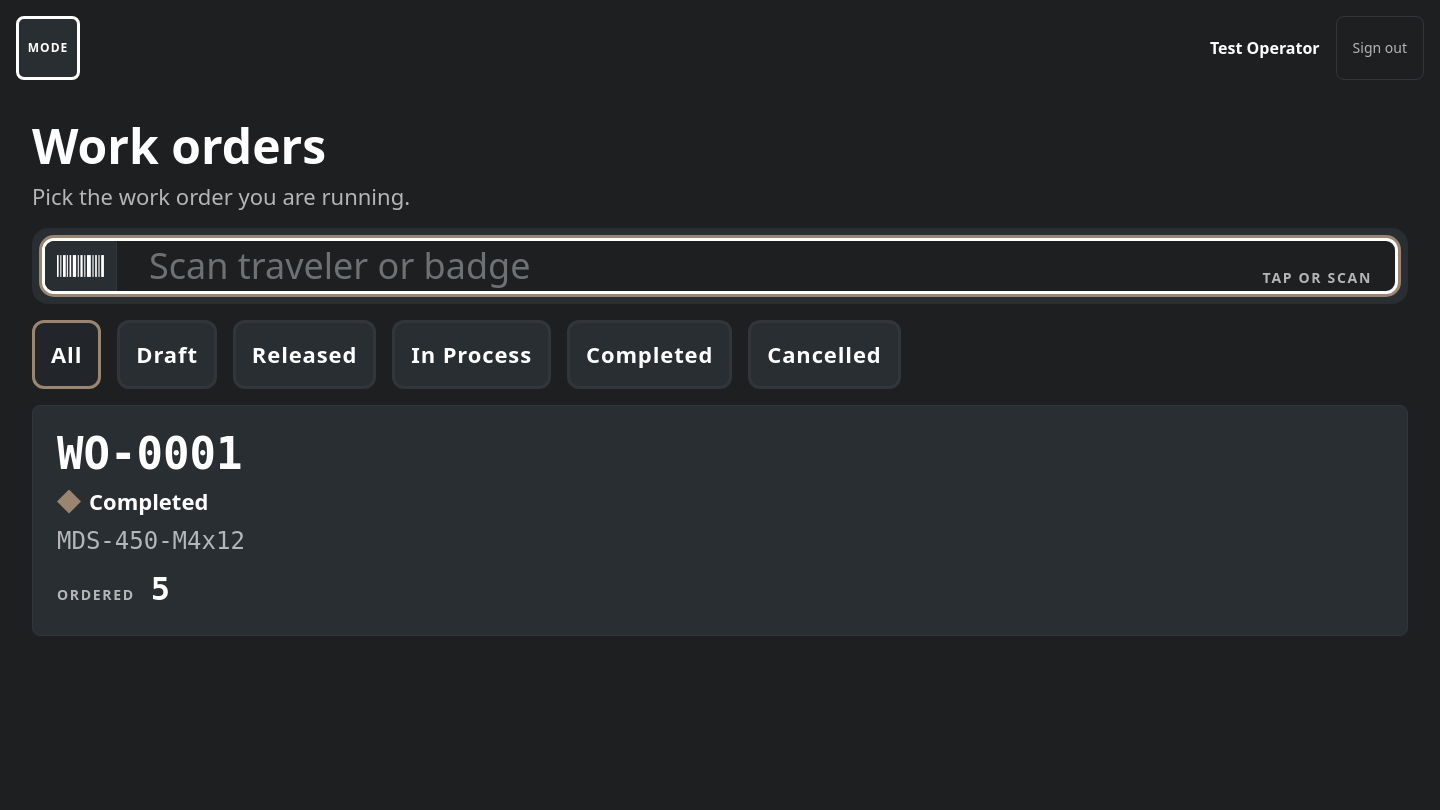
Test case: floor work-order pick list › taps a row to the terminal and Back returns to the list
The width and height of the screenshot is (1440, 810).
Click the link "WO-0001 Completed MDS-450-M4x12 ORDERED 5": {"x": 720, "y": 521} 32,405 -> 1408,636
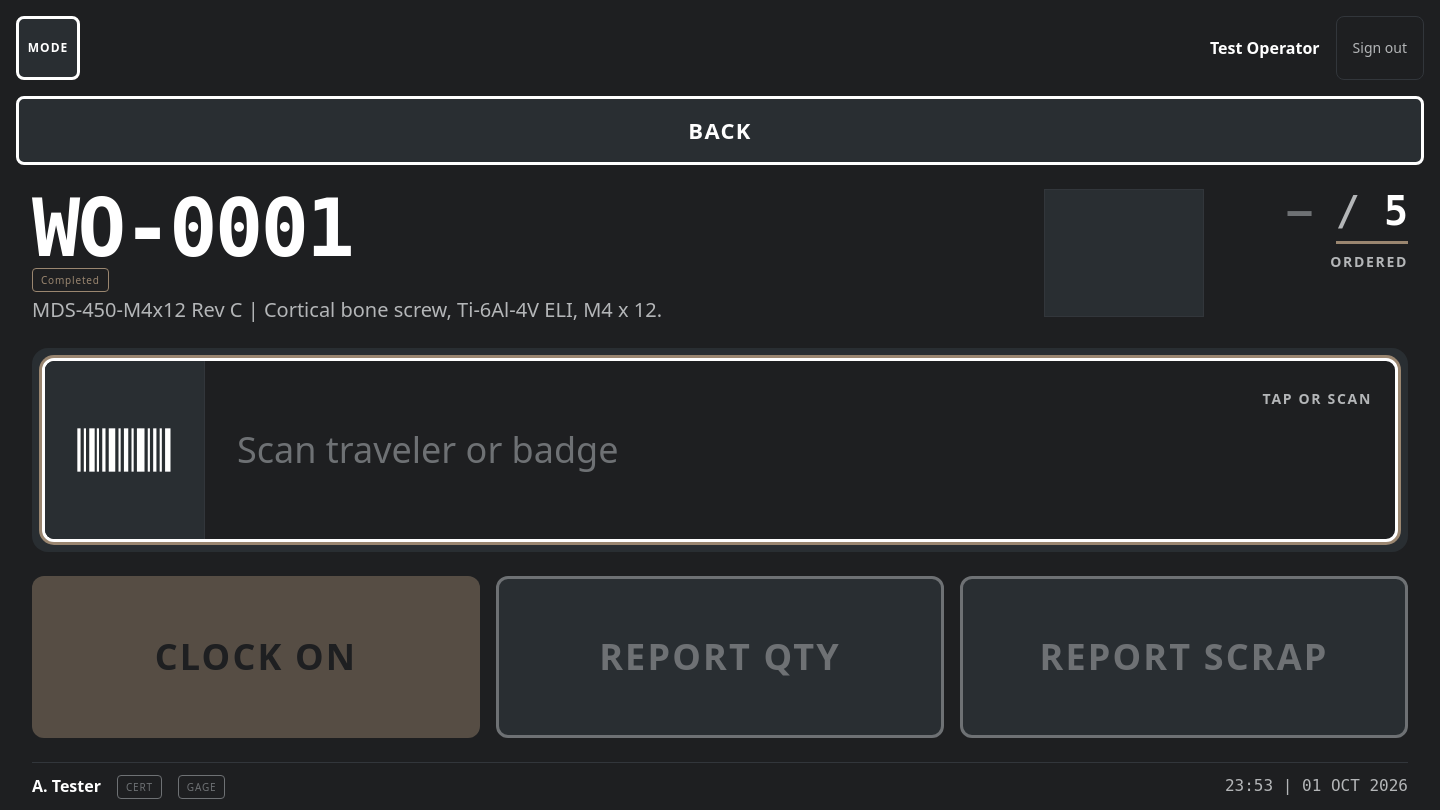
Expected: the heading "WO-0001" is shown, 32,182 -> 352,275
Click the link with aria-label "Back to work orders": {"x": 720, "y": 130} 16,96 -> 1424,165
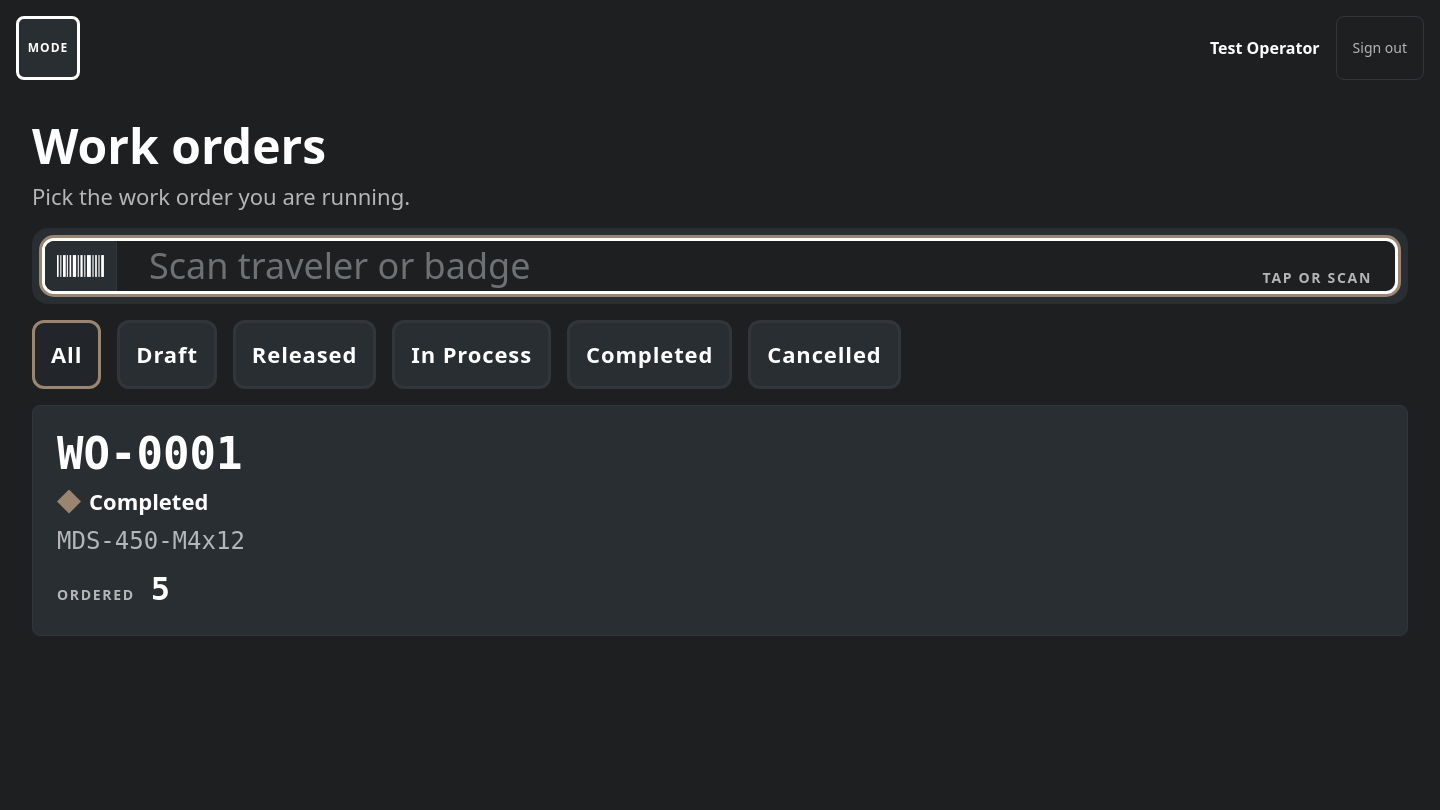
Expected: the link "WO-0001 Completed MDS-450-M4x12 ORDERED 5" is shown, 32,405 -> 1408,636
